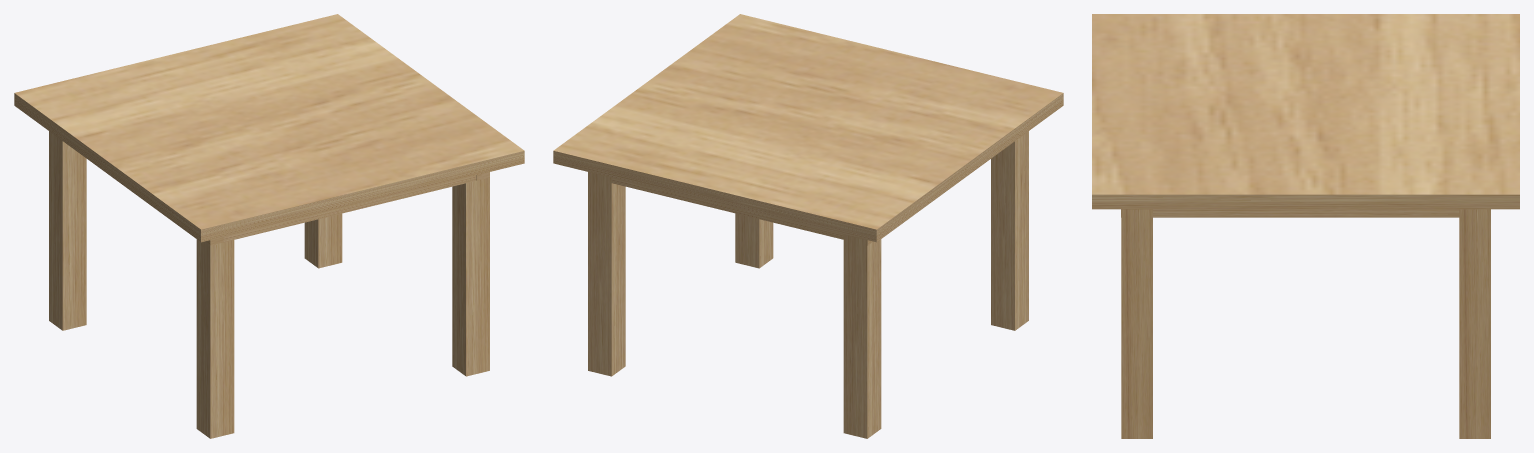
Rendered from Table.fbx.
The picture shows the model from 3 angles, left to right: view 1: azimuth 30°, elevation 25°; view 2: azimuth 150°, elevation 25°; view 3: azimuth 270°, elevation 25°; orthographic projection. The views are drawn at different scales.
Visible parts, largest first — view 1: tableTop, tableLeg2, tableLeg4, tableLeg1, tableLeg3, pCube4; view 2: tableTop, tableLeg1, tableLeg3, tableLeg2, tableLeg4, pCube5; view 3: tableTop, tableLeg4, tableLeg3, tableFrame.
Part boxes in pixels (x1,y1,x2,y2): tableTop: [14, 14, 524, 242]; tableLeg2: [196, 239, 234, 438]; tableLeg4: [452, 177, 489, 376]; tableLeg1: [49, 131, 86, 330]; tableLeg3: [304, 213, 342, 268]; pCube4: [223, 175, 476, 242]; tableTop: [553, 14, 1063, 242]; tableLeg1: [843, 234, 881, 438]; tableLeg3: [588, 172, 625, 376]; tableLeg2: [991, 131, 1028, 330]; tableLeg4: [735, 213, 773, 268]; pCube5: [611, 178, 872, 244]; tableTop: [1092, 14, 1519, 209]; tableLeg4: [1121, 209, 1152, 438]; tableLeg3: [1459, 209, 1490, 438]; tableFrame: [1121, 209, 1459, 217].
Bounding box in the file's own units: 1.23 × 0.8114 × 1.23.
Materials: 6 (6 with a texture image).
